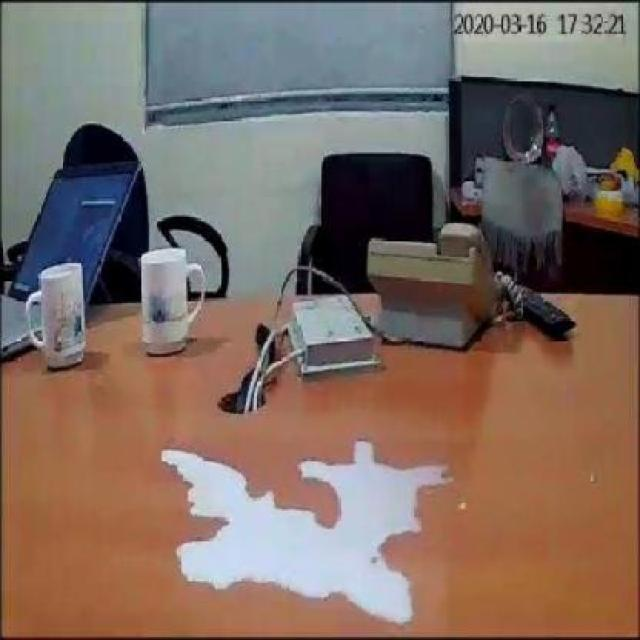spillage: (161, 440, 447, 626)
